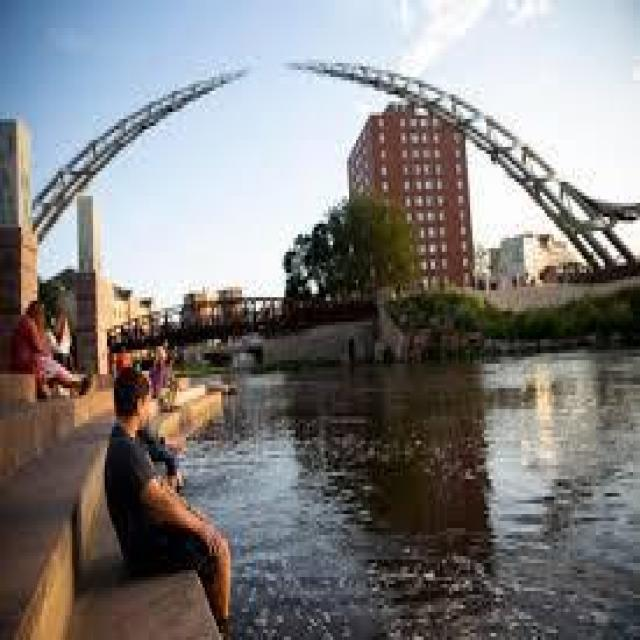other: (530, 362, 572, 468), (518, 220, 566, 289), (173, 373, 230, 425)
